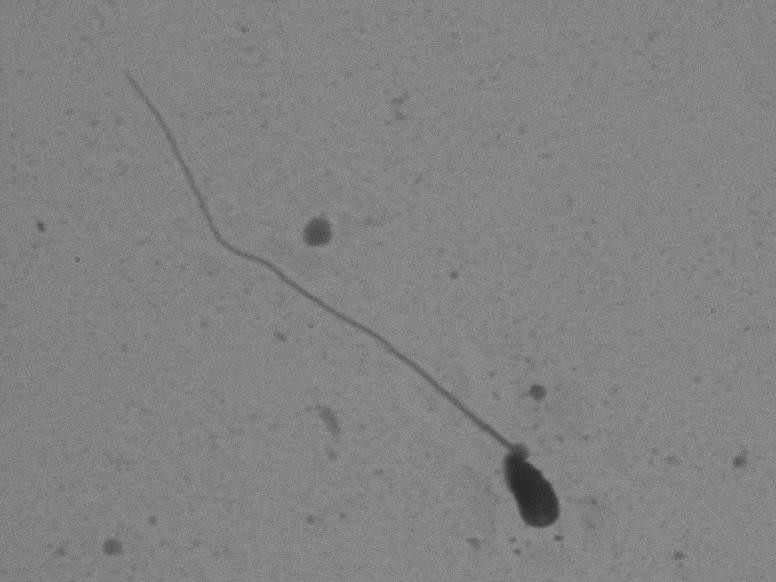Abnormal: (113, 37, 581, 551)
